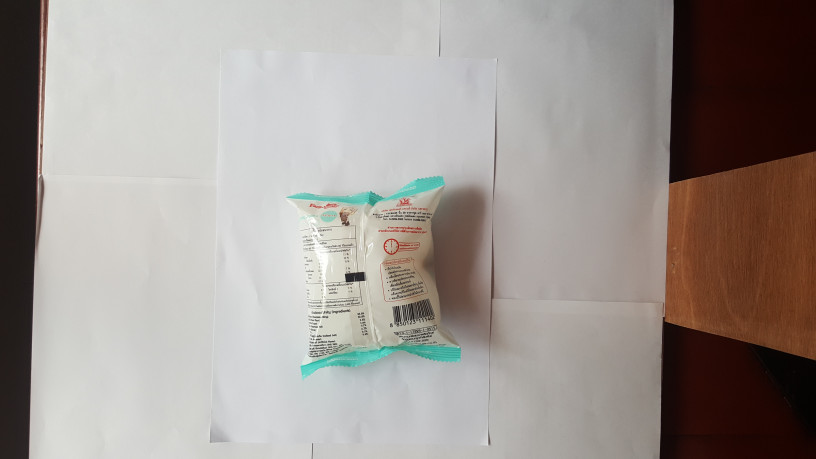farmhouse-sweetsandwich-chocolate: (281, 176, 465, 379)
